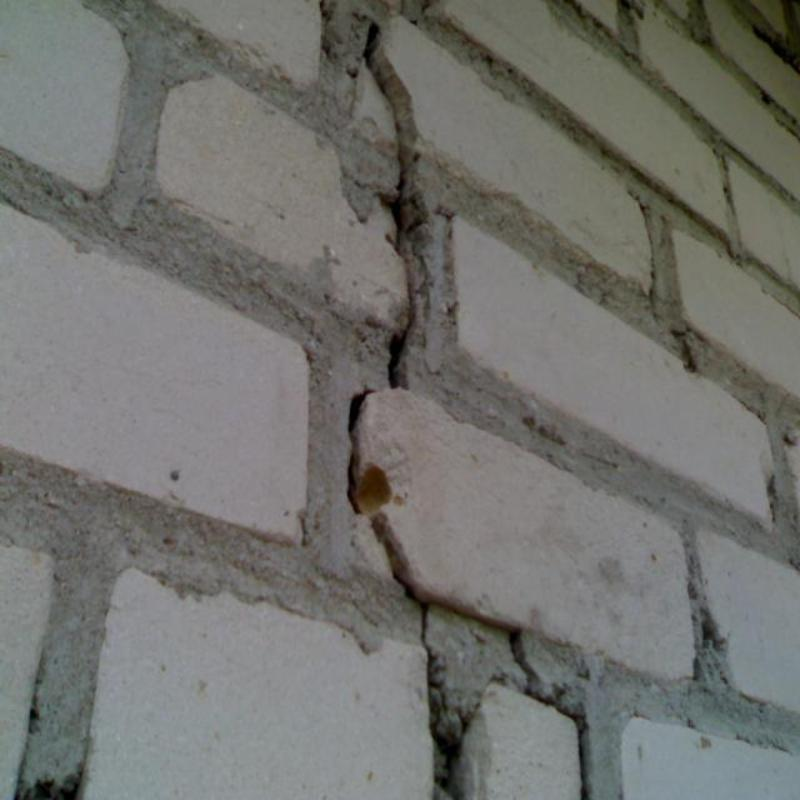pothole: (344, 388, 465, 799), (359, 22, 431, 389), (509, 629, 590, 799), (755, 29, 799, 72), (0, 781, 85, 799), (674, 328, 705, 372), (701, 616, 721, 648)
